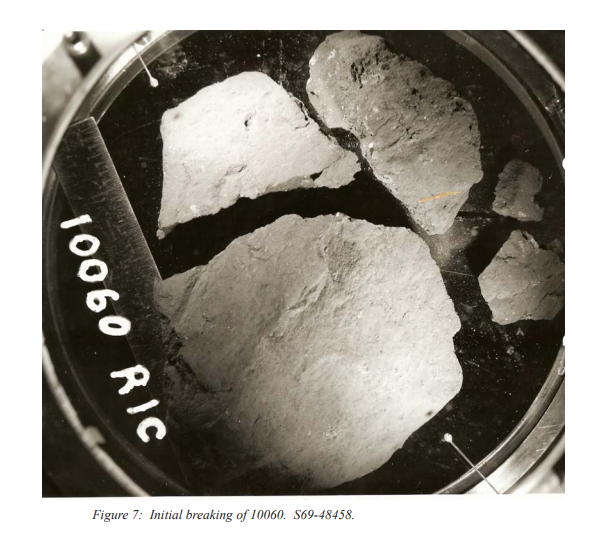Breccia: (167, 255, 453, 482), (306, 41, 493, 226), (130, 83, 370, 219), (468, 216, 555, 317), (487, 140, 548, 231)
